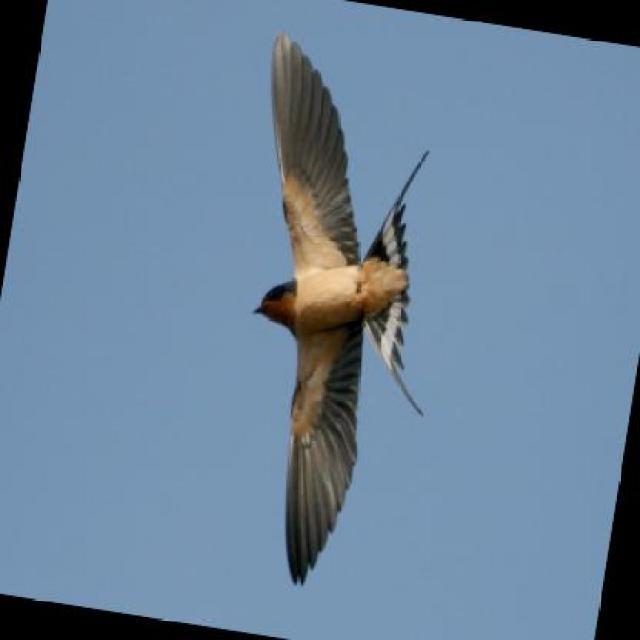Bird: (256, 16, 423, 597)
